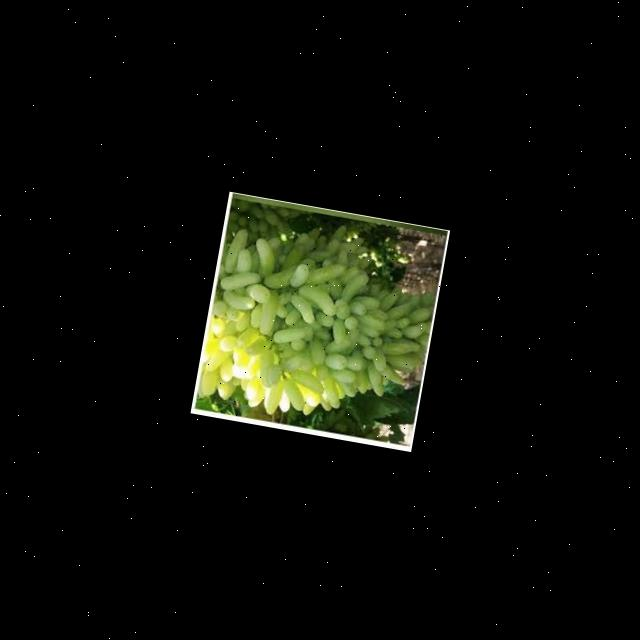grape: (195, 199, 445, 439)
